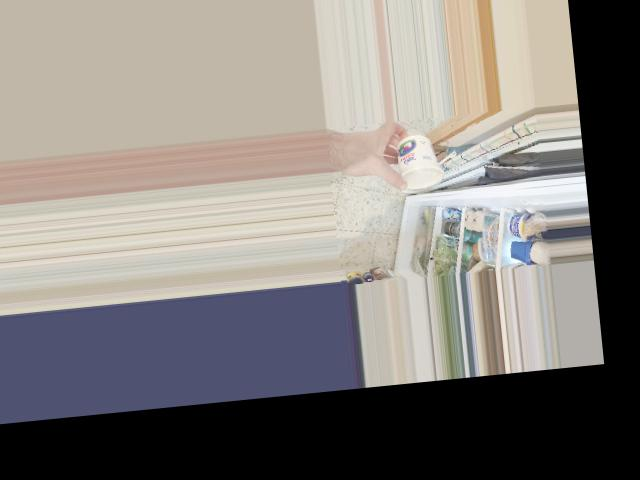cotage: (390, 134, 444, 190)
